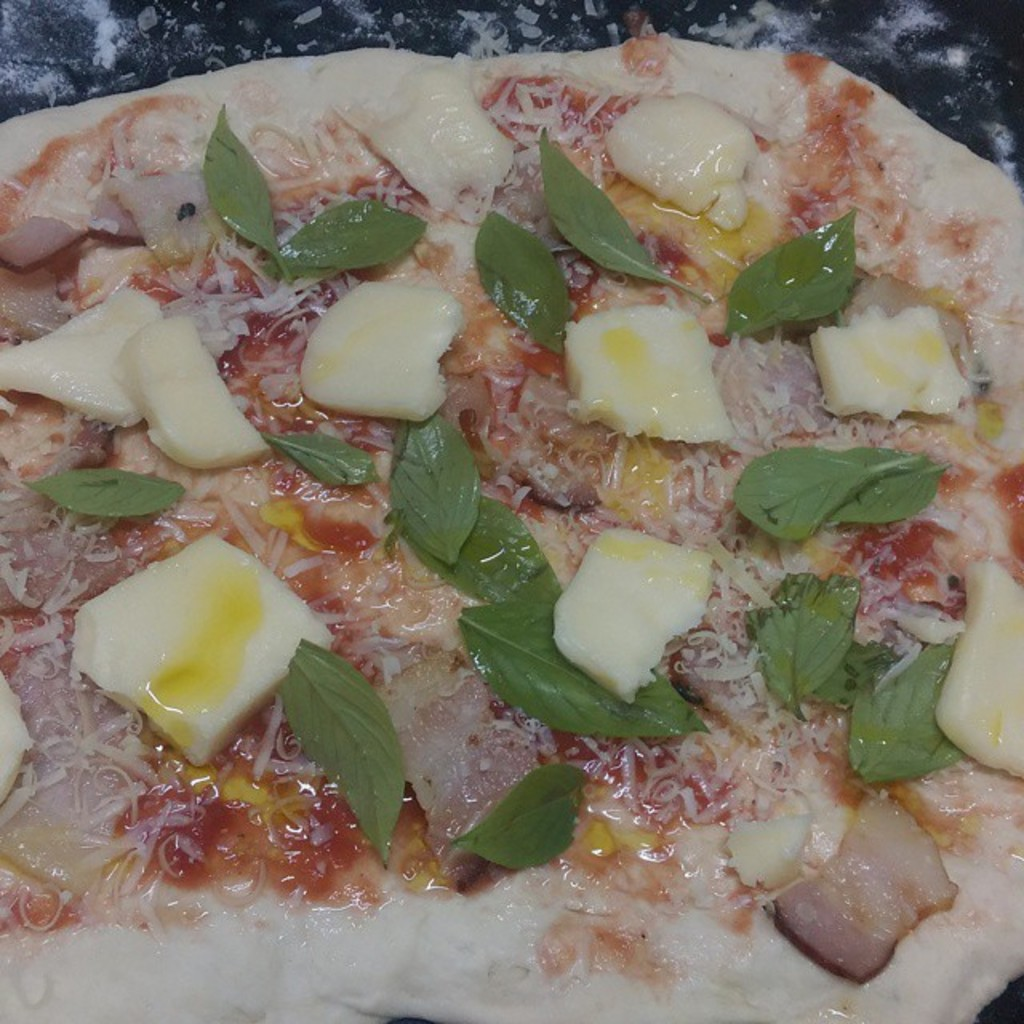Pizza: (0, 0, 1022, 1004)
